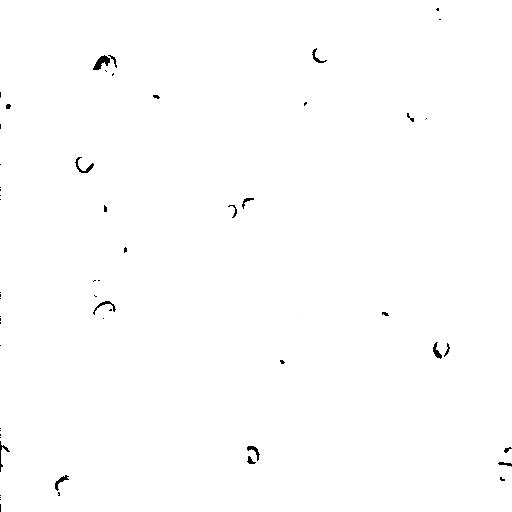micro-algae: (161, 0, 258, 90), (189, 166, 280, 255), (387, 261, 453, 326), (109, 0, 171, 40), (481, 239, 512, 310), (209, 329, 250, 373), (321, 313, 360, 353), (283, 0, 340, 25), (207, 52, 241, 87), (408, 49, 439, 85), (87, 51, 118, 85), (364, 18, 392, 52), (292, 300, 321, 332), (365, 305, 396, 334), (48, 473, 81, 498), (293, 145, 318, 177), (91, 195, 115, 227), (402, 102, 430, 129), (290, 89, 316, 116), (267, 346, 292, 372), (115, 236, 138, 263), (1, 96, 22, 125), (91, 299, 117, 322), (379, 231, 402, 255), (85, 278, 108, 301), (311, 43, 333, 65), (73, 154, 95, 175), (433, 337, 452, 360), (491, 467, 511, 488), (241, 443, 259, 466), (242, 197, 263, 216), (495, 437, 511, 461), (0, 440, 13, 468), (429, 0, 446, 21), (223, 205, 237, 220)
